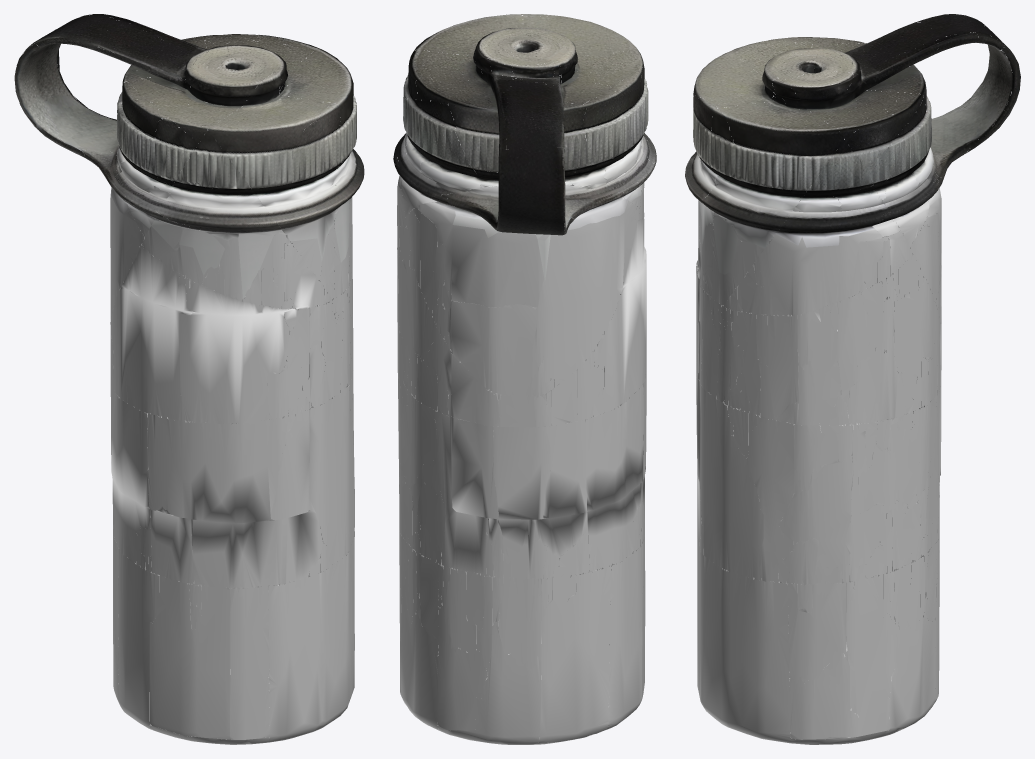
The model's file is mmam.glb.
3 views of the same model, side by side, from view 1: azimuth 30°, elevation 25°; view 2: azimuth 150°, elevation 25°; view 3: azimuth 270°, elevation 25° (orthographic). The views are drawn at different scales.
Visible parts, largest first — view 1: botella.001, tapa; view 2: botella.001, tapa; view 3: botella.001, tapa.
Part boxes in pixels (box(x1,y1,x2,y2)): botella.001: box(110, 141, 354, 744); tapa: box(14, 14, 364, 298); botella.001: box(397, 145, 646, 744); tapa: box(393, 14, 656, 280); botella.001: box(696, 149, 941, 744); tapa: box(685, 14, 1020, 274).
Bounding box in the file's own units: 0.3857 × 0.9799 × 0.4679.
Materials: 2 (1 with a texture image).
